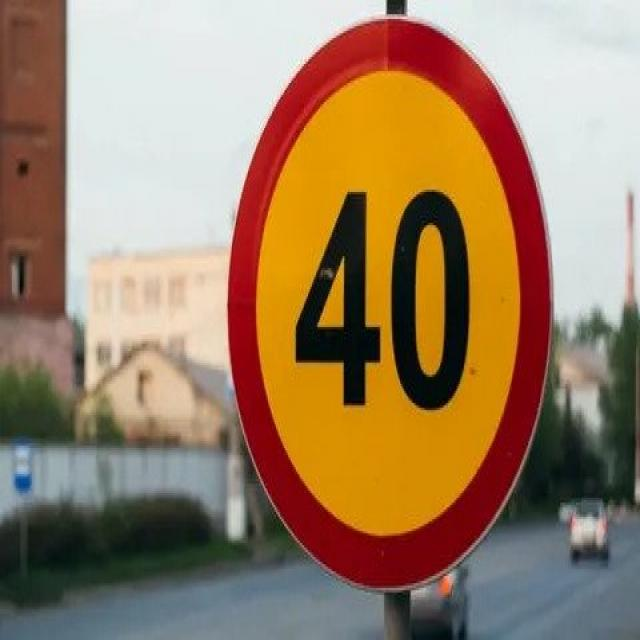speed limit 40: (228, 10, 556, 600)
